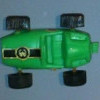verde: (3, 17, 98, 86)
